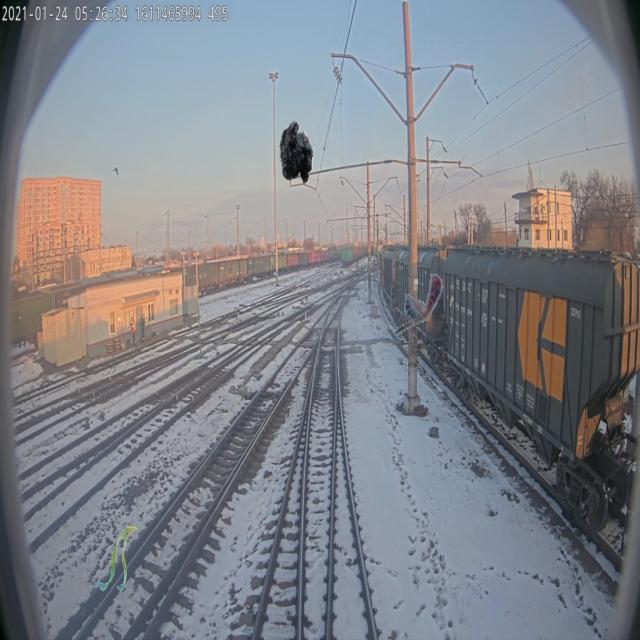floating object: (391, 272, 443, 336), (97, 527, 139, 591)
plastic bag: (279, 120, 314, 184)
